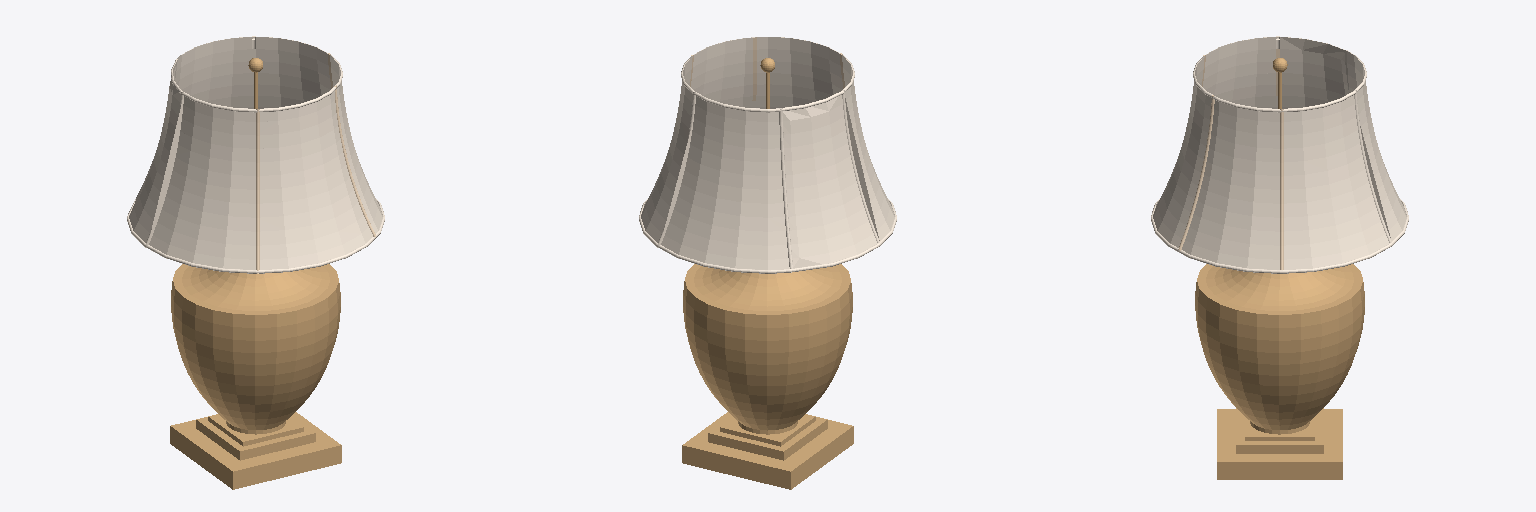
File: lamp.obj
The picture shows the model from 3 angles: view 1: azimuth 30°, elevation 25°; view 2: azimuth 150°, elevation 25°; view 3: azimuth 270°, elevation 25°; orthographic projection.
Parts seen in each view (by area): view 1: Mesh3 Component_8_1 Group1 Model, Mesh1 Group2 Group1 Model; view 2: Mesh3 Component_8_1 Group1 Model, Mesh1 Group2 Group1 Model; view 3: Mesh3 Component_8_1 Group1 Model, Mesh1 Group2 Group1 Model.
Part boxes in pixels (bbox=[...]): Mesh3 Component_8_1 Group1 Model: bbox=[127, 36, 384, 273]; Mesh1 Group2 Group1 Model: bbox=[170, 72, 341, 489]; Mesh3 Component_8_1 Group1 Model: bbox=[639, 37, 896, 273]; Mesh1 Group2 Group1 Model: bbox=[682, 73, 853, 489]; Mesh3 Component_8_1 Group1 Model: bbox=[1151, 36, 1408, 273]; Mesh1 Group2 Group1 Model: bbox=[1195, 72, 1364, 479].
Size of the model in its own units: 20.31 by 34.21 by 20.31.